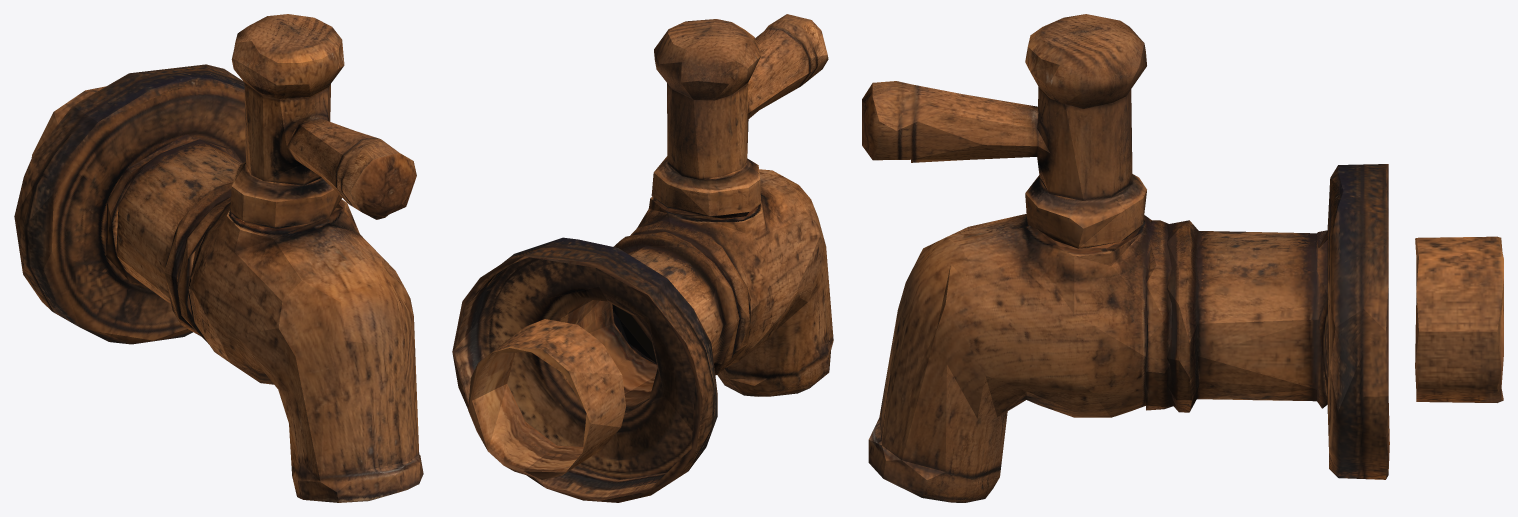
Rendered from Meshy_AI_barrel_wooden_spigot__1007001151_texture.fbx.
3 renders of one model, left to right at view 1: azimuth 30°, elevation 25°; view 2: azimuth 150°, elevation 25°; view 3: azimuth 270°, elevation 25°, orthographic. The views are drawn at different scales.
Parts seen in each view (by area): view 1: output_unwrapped; view 2: output_unwrapped; view 3: output_unwrapped.
Boxes of the visible parts, left/top/right/bottom form: output_unwrapped: left=14, top=14, right=423, bottom=502; output_unwrapped: left=452, top=14, right=833, bottom=502; output_unwrapped: left=862, top=14, right=1503, bottom=502.
Bounding box in the file's own units: 99.8 × 150 × 189.
1 material, 1 textured.
